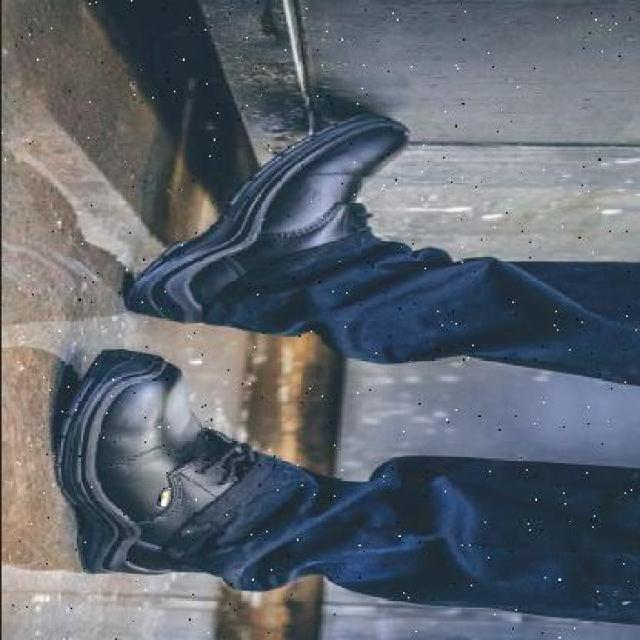shoes: (111, 119, 420, 326), (61, 349, 270, 586)
